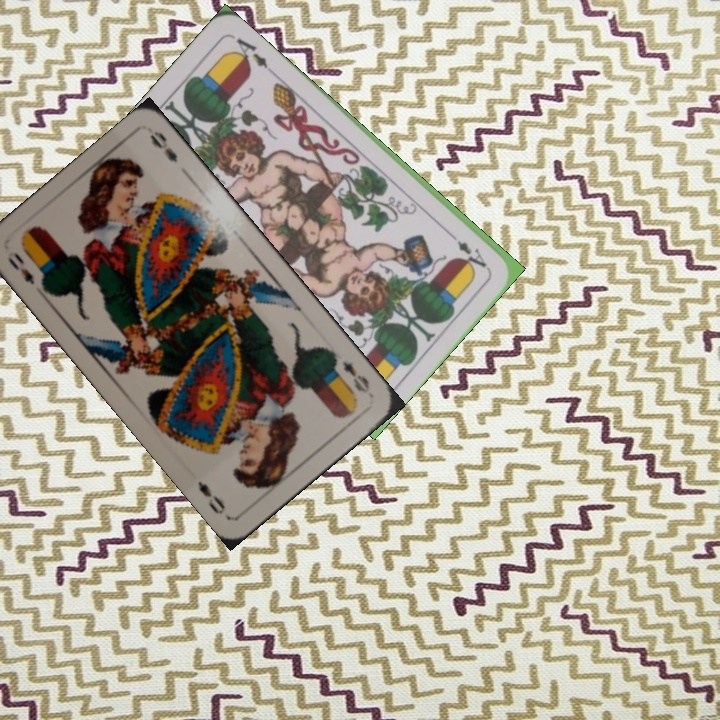EA: (453, 236, 491, 272)
EO: (337, 356, 373, 396), (3, 247, 38, 288)
